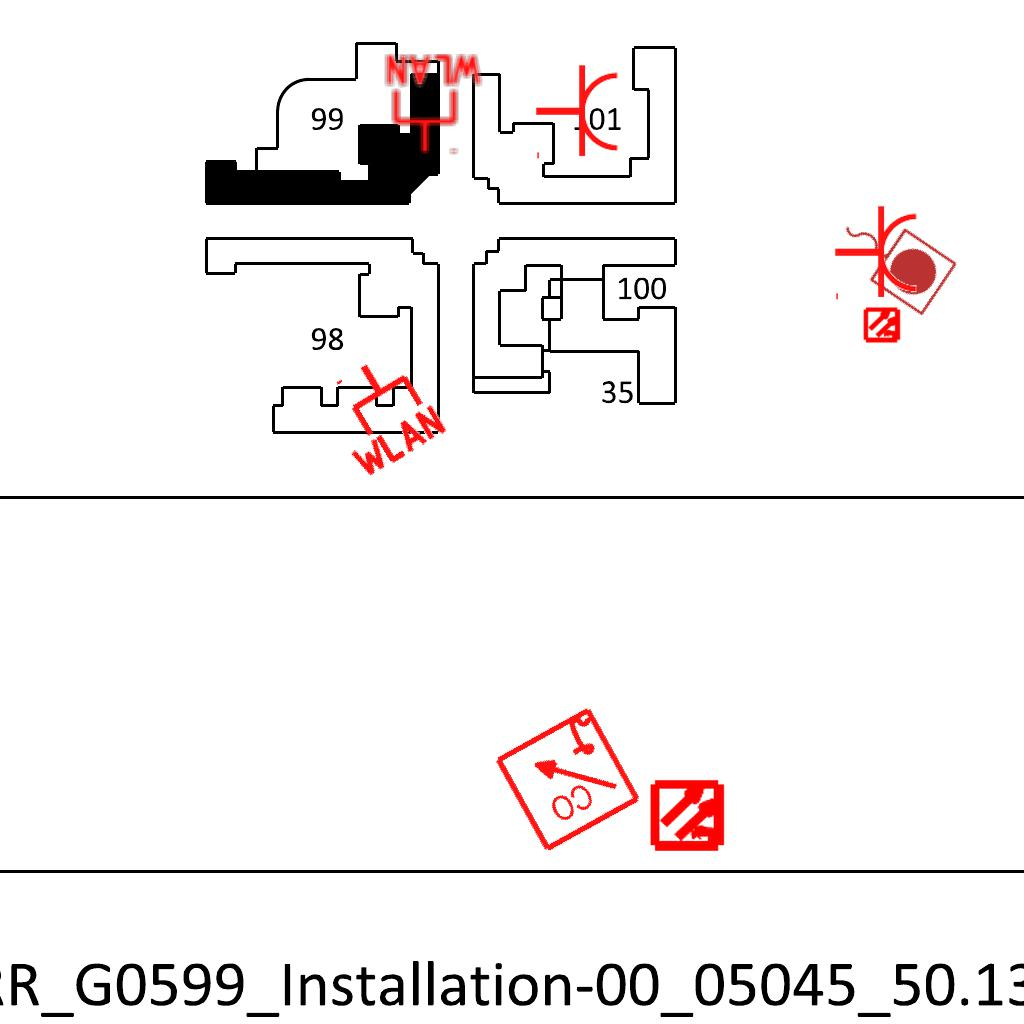OT_Multisensormelder_(Kombination_RMO_WMD): (633, 759, 746, 872), (855, 297, 911, 353)
ROA_Rauchmelder_optisch_mit_Signalgeber_(Sockelsirene): (489, 701, 644, 856)
Schukosteckdose_einfach: (534, 63, 621, 163), (833, 204, 920, 304)
WLAN: (308, 340, 453, 484), (382, 52, 486, 157)
Zugtaster: (822, 193, 964, 321)
